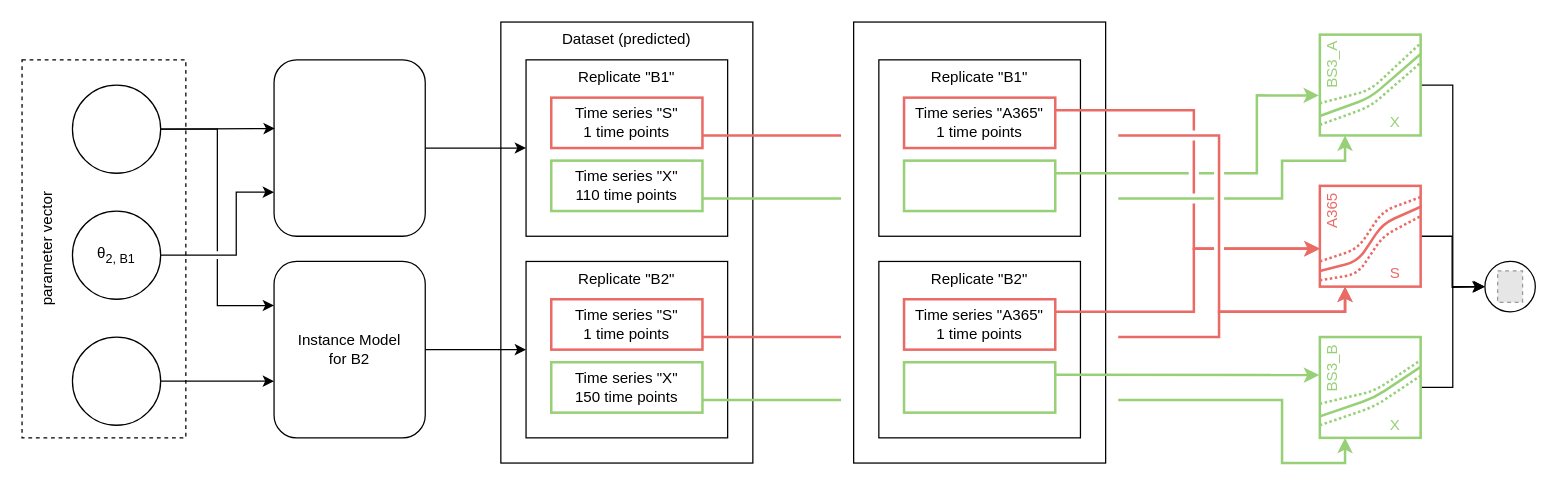
The diagram is 1557 pixels wide and 496 high, and some of its shapes have lost their labels. Grey dashed boxes stand in for pictures. Each missing label, with the centre of its shape:
Dataset (observed): the point at 979,242
Instance Model for B1: the point at 349,147
Time series "BS3_A" 110 time points: the point at 979,185
Time series "BS3_B" 150 time points: the point at 979,386
θ 1, global: the point at 116,128
θ 3, B2: the point at 116,380
